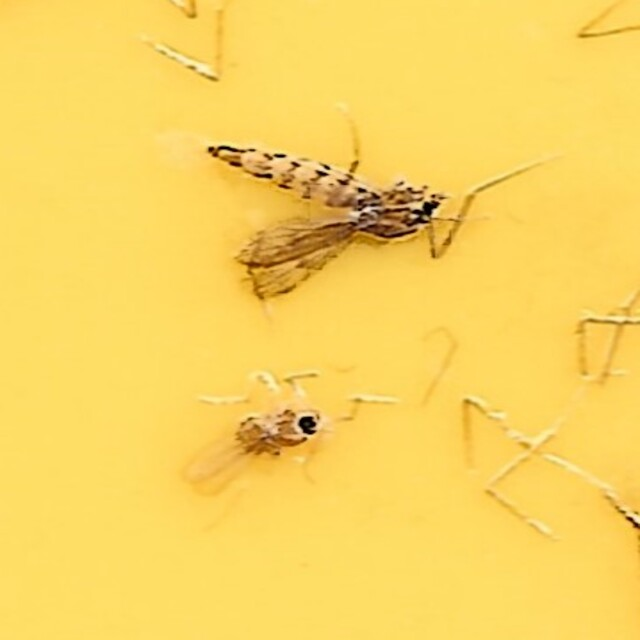Nematocera: (191, 137, 462, 295), (178, 402, 333, 503)
